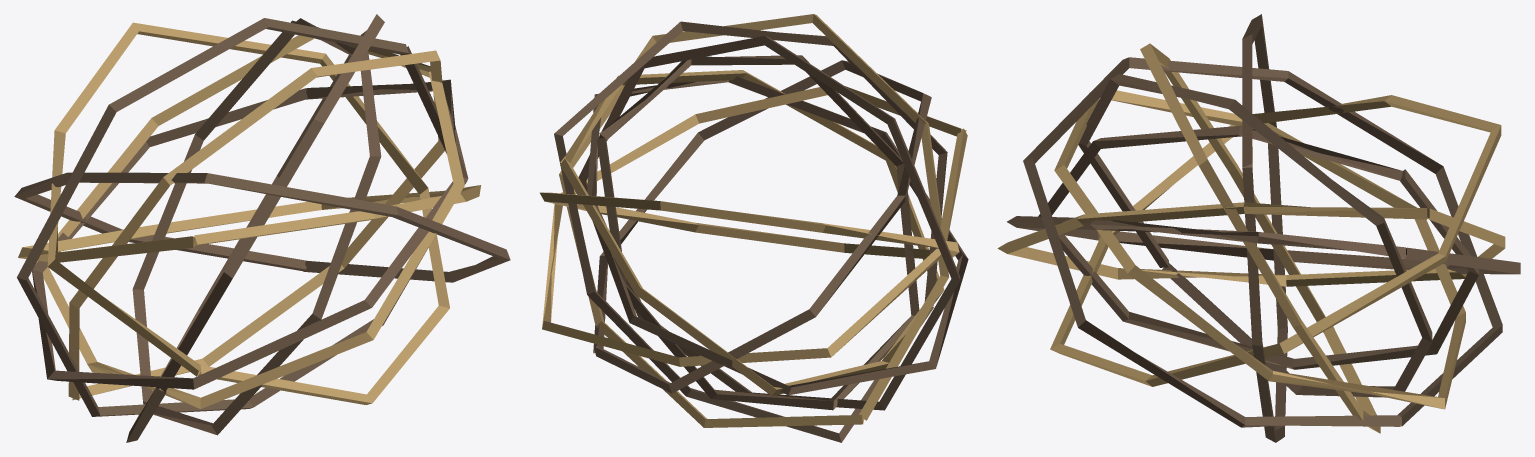
Rendered from SM_Tumbleweed.fbx.
The picture shows the model from 3 angles, left to right: view 1: azimuth 30°, elevation 25°; view 2: azimuth 150°, elevation 25°; view 3: azimuth 270°, elevation 25°; orthographic projection. The views are drawn at different scales.
Parts seen in each view (by area): view 1: Tumbleweed; view 2: Tumbleweed; view 3: Tumbleweed.
Boxes of the visible parts, x1=… form: Tumbleweed: x1=14, y1=14, x2=510, y2=442; Tumbleweed: x1=540, y1=14, x2=968, y2=442; Tumbleweed: x1=997, y1=14, x2=1520, y2=442.
Bounding box in the file's own units: 94.49 × 92.89 × 81.25.
